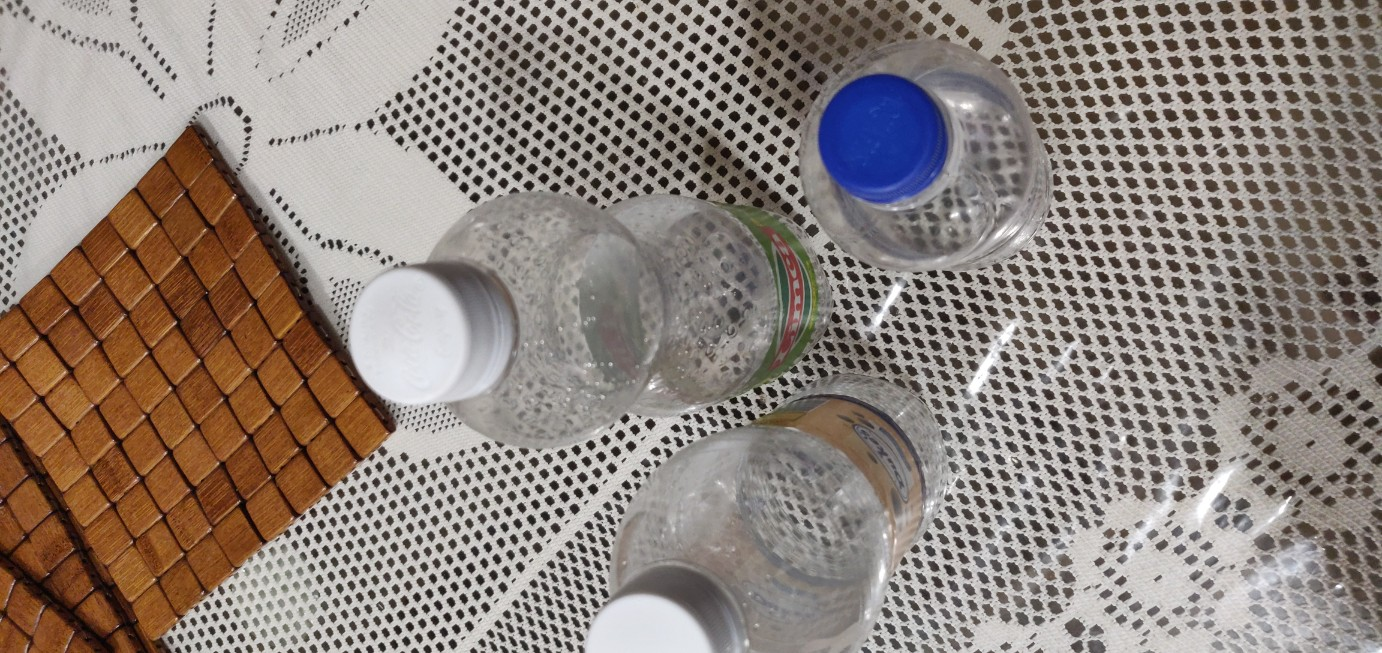Electronics: (324, 165, 879, 467), (559, 358, 999, 653), (788, 27, 1090, 302)
